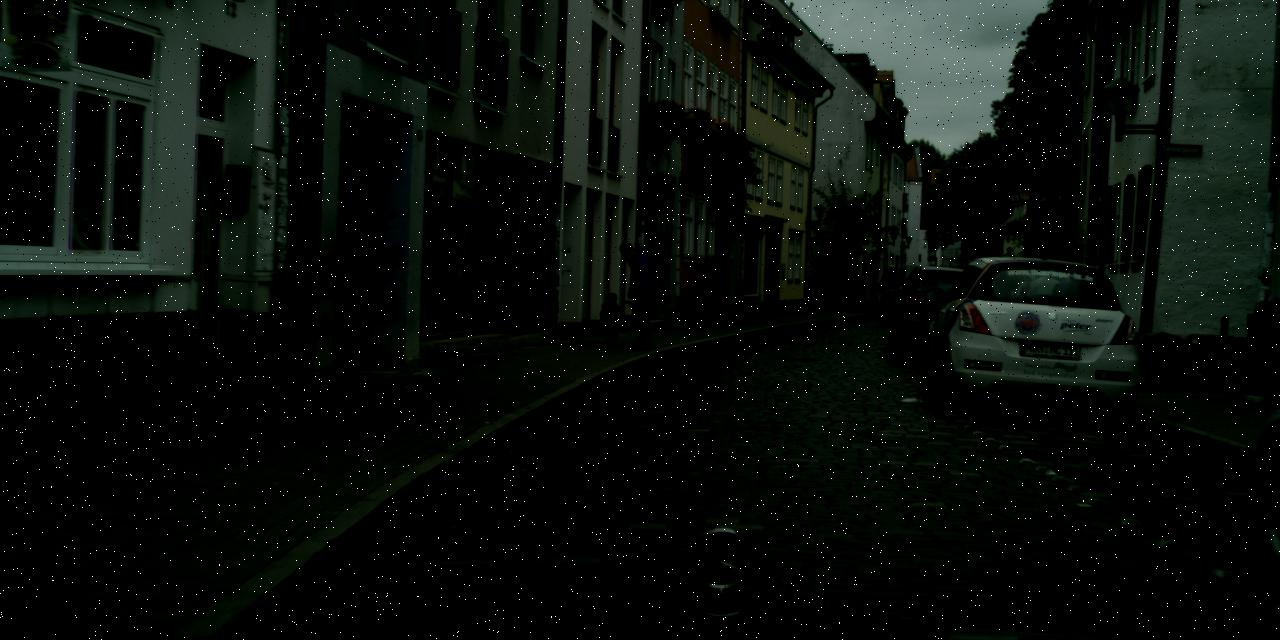ped: (612, 242, 655, 347), (600, 292, 621, 346), (879, 264, 899, 315)
